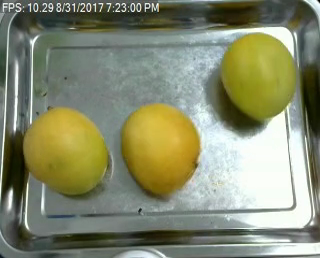Mango: (22, 106, 107, 197), (122, 102, 201, 193), (221, 31, 298, 123)
